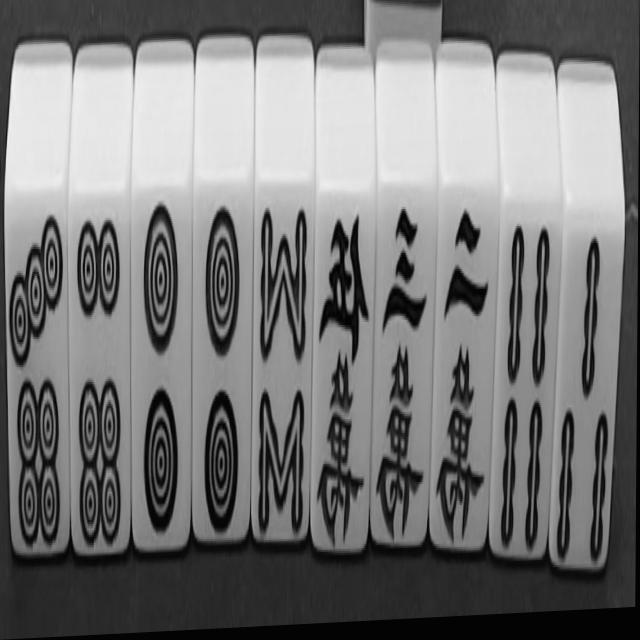m2: (429, 45, 502, 564)
m3: (369, 43, 439, 557)
m5: (311, 49, 377, 561)
s3: (547, 63, 626, 586)
s4: (488, 55, 562, 576)
s8: (251, 37, 317, 558)
t2: (128, 42, 195, 569), (190, 38, 255, 561)
t6: (66, 44, 134, 574)
t7: (1, 41, 74, 572)
